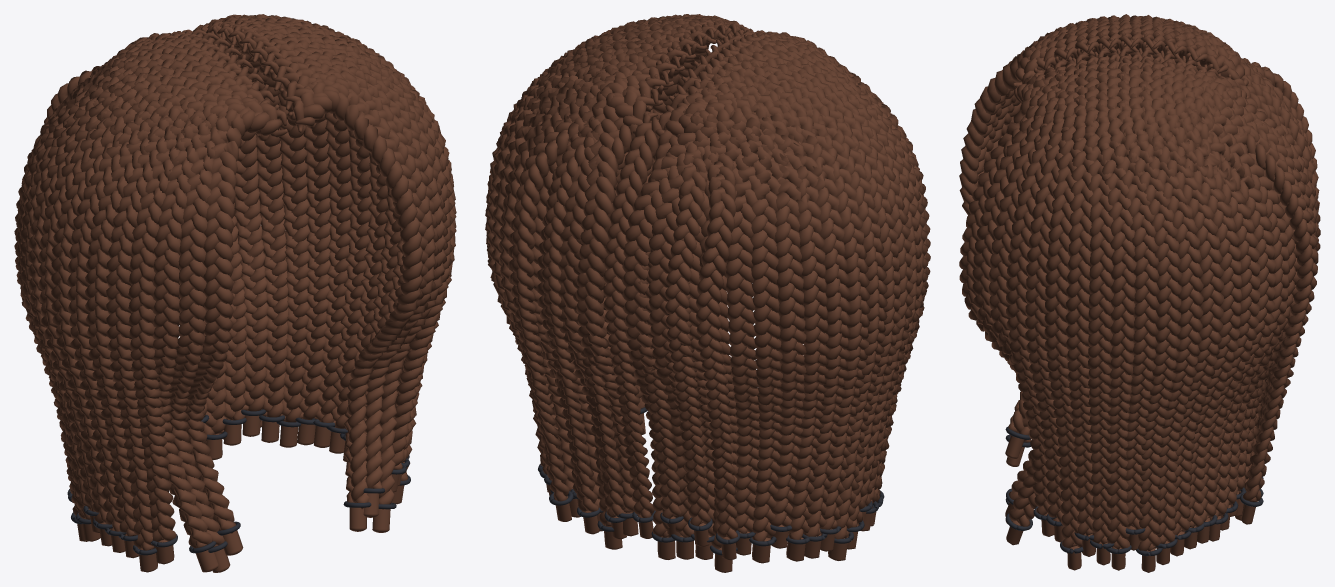
File: Feminine-box-braids-ears260-hair.glb
3 renders of one model, left to right at view 1: azimuth 30°, elevation 25°; view 2: azimuth 150°, elevation 25°; view 3: azimuth 270°, elevation 25°, orthographic. The views are drawn at different scales.
Visible parts, largest first — view 1: 226 hair / Hair / chestnut226.001, 226 hair / Hair / ties226.001; view 2: 226 hair / Hair / chestnut226.001, 226 hair / Hair / ties226.001; view 3: 226 hair / Hair / chestnut226.001, 226 hair / Hair / ties226.001.
Boxes of the visible parts, x1,y1,x2,y2 form: 226 hair / Hair / chestnut226.001: (14, 14, 456, 572); 226 hair / Hair / ties226.001: (67, 409, 410, 555); 226 hair / Hair / chestnut226.001: (485, 14, 930, 572); 226 hair / Hair / ties226.001: (538, 407, 884, 555); 226 hair / Hair / chestnut226.001: (959, 14, 1320, 572); 226 hair / Hair / ties226.001: (1005, 427, 1263, 556).
Size of the model in its own units: 1.07 by 1.23 by 0.8719.
